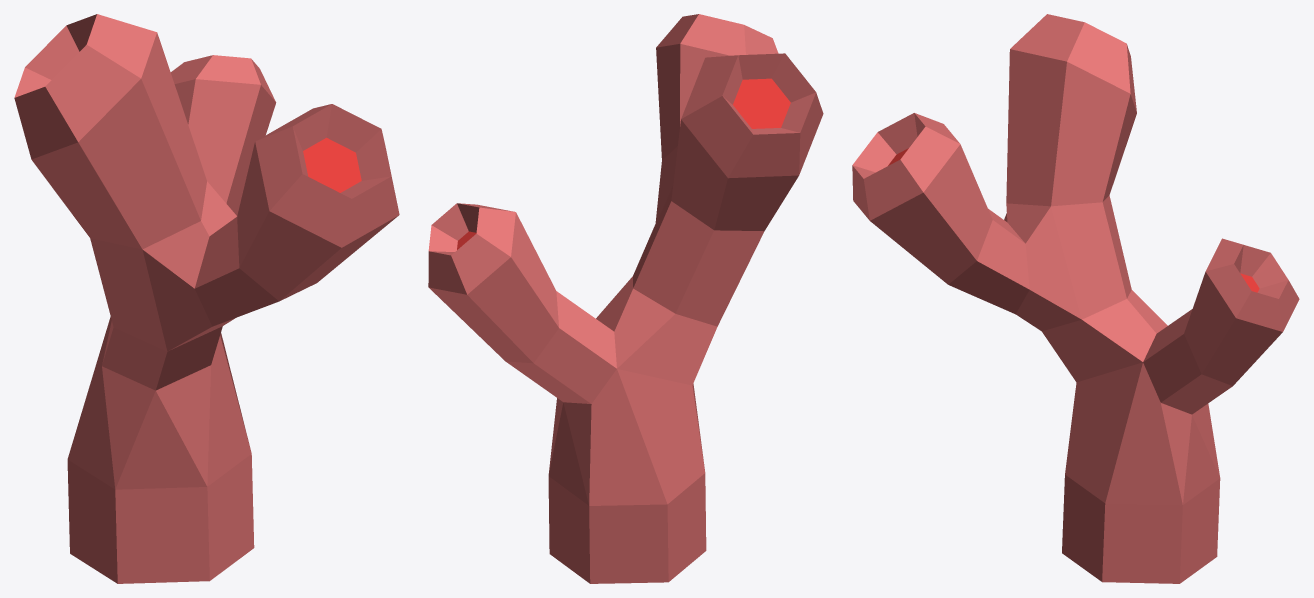
File: Coral_016.glb
3 renders of one model, left to right at view 1: azimuth 30°, elevation 25°; view 2: azimuth 150°, elevation 25°; view 3: azimuth 270°, elevation 25°, orthographic. The views are drawn at different scales.
Parts seen in each view (by area): view 1: Coral_016; view 2: Coral_016; view 3: Coral_016.
Part boxes in pixels (bbox=[...]): Coral_016: bbox=[14, 14, 399, 583]; Coral_016: bbox=[428, 14, 823, 583]; Coral_016: bbox=[852, 14, 1299, 583].
Bounding box in the file's own units: 0.2005 × 0.3248 × 0.2658.
Materials: 1 (1 with a texture image).
